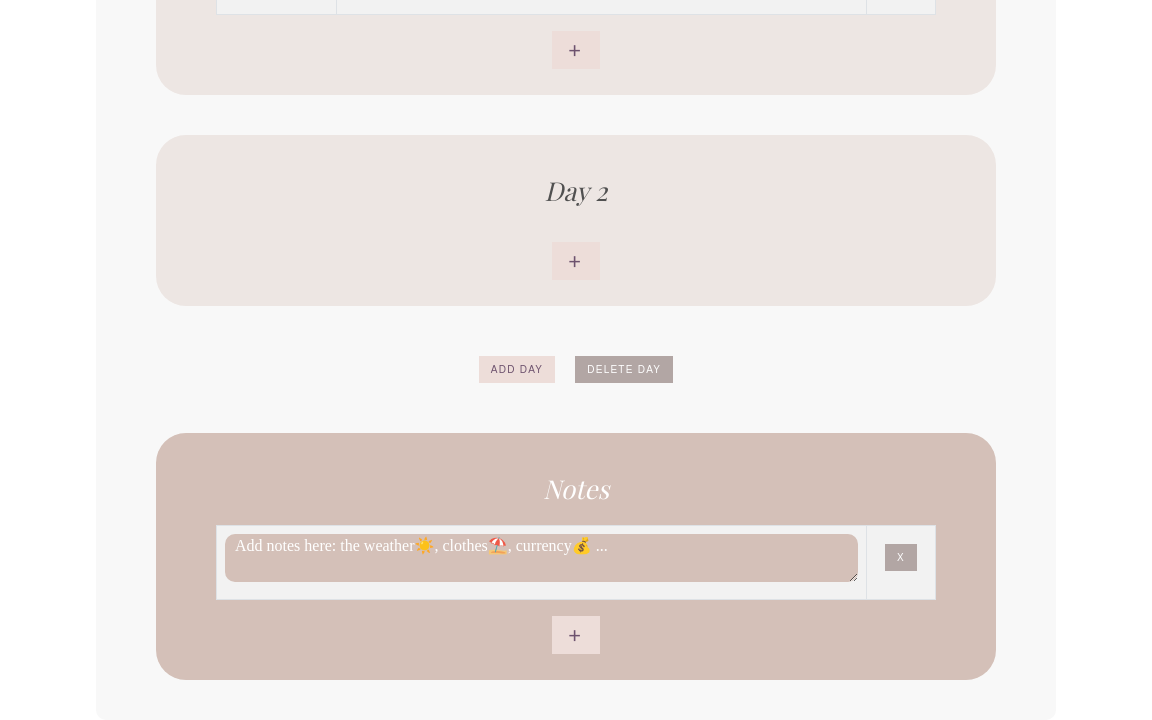
Test case: delete the last day
(page scrolled)
Click the button "Delete Day" at x=624, y=370, box [575,356,673,383]
(page scrolled)
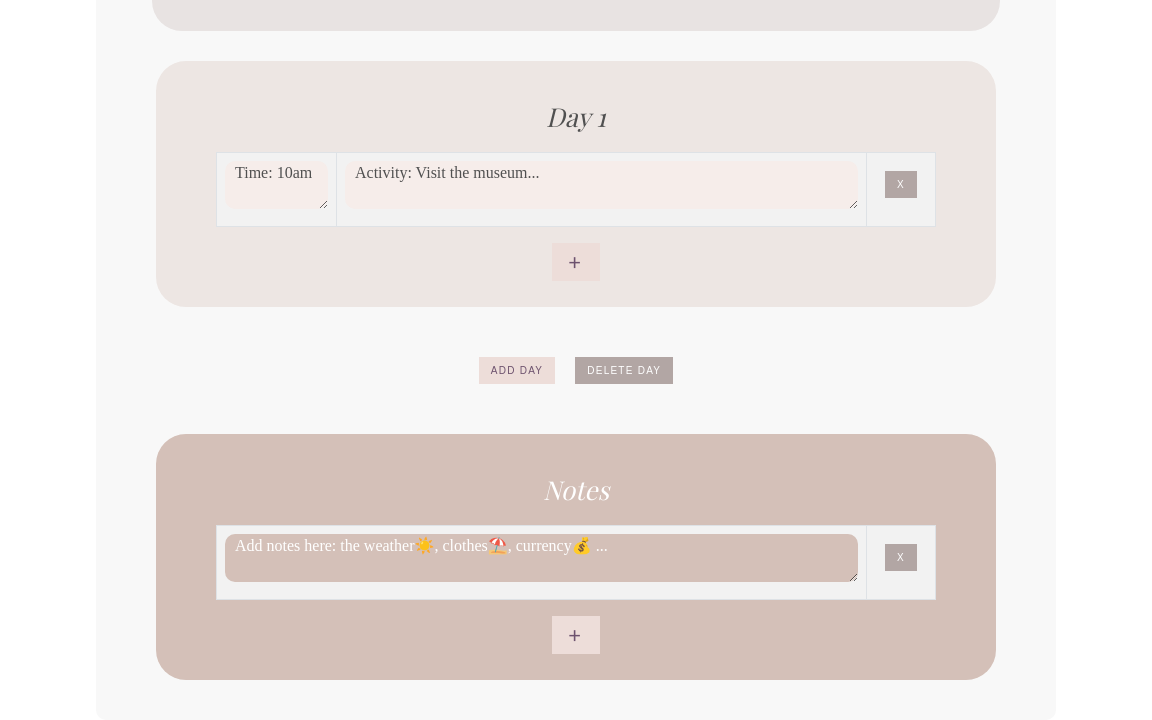
Expected: the heading "Day 2" is gone
